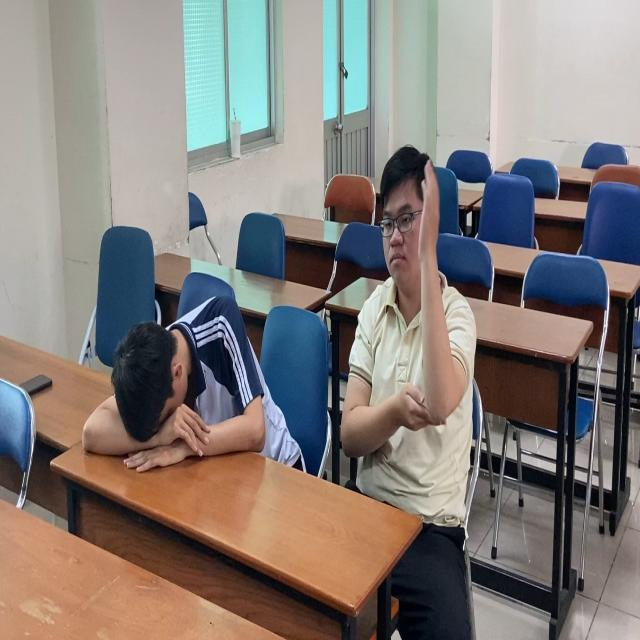raise_hand: (341, 147, 479, 457)
sleep: (84, 284, 319, 517)
